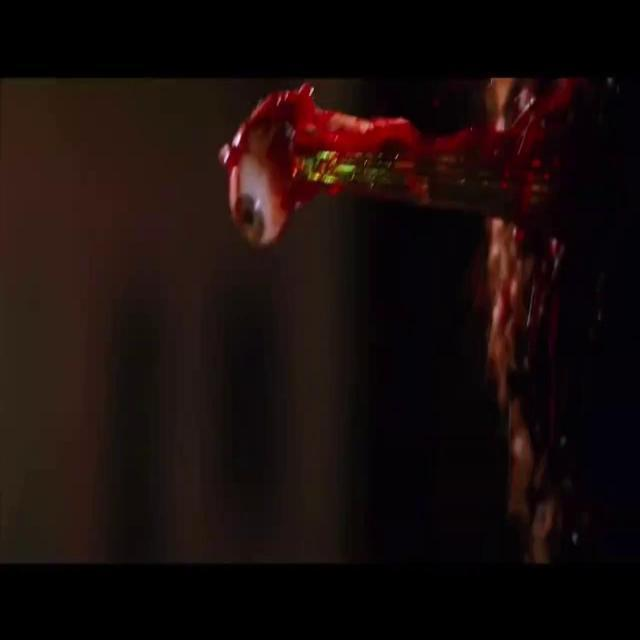flood: (215, 72, 578, 240)
